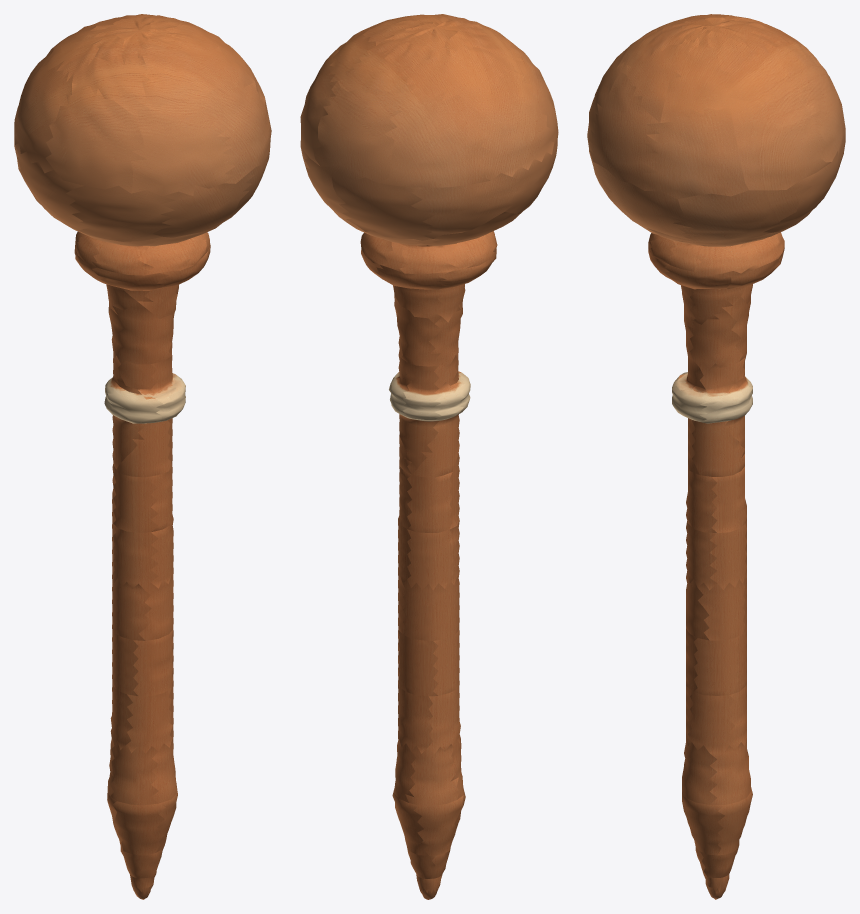
The model's file is s1_quality_tent_peg.glb.
3 views of the same model, side by side, from view 1: azimuth 30°, elevation 25°; view 2: azimuth 150°, elevation 25°; view 3: azimuth 270°, elevation 25° (orthographic).
Size of the model in its own units: 0.5127 by 1.91 by 0.5127.
1 material, 1 textured.
